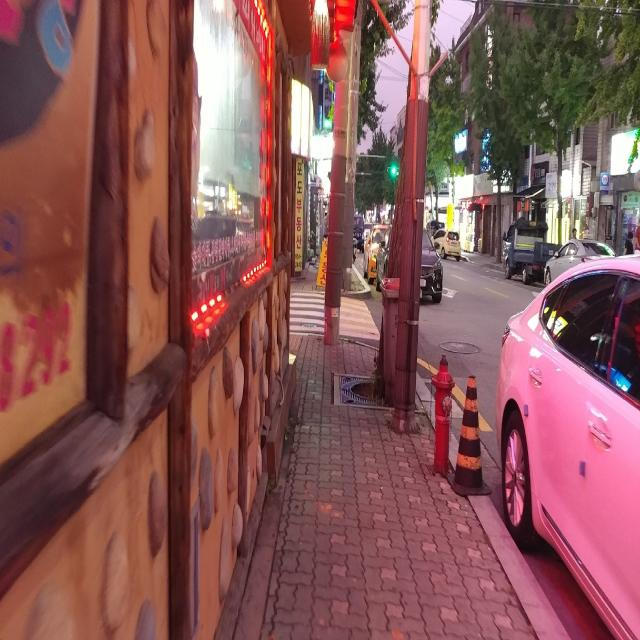횡단보도: (289, 291, 325, 337)
